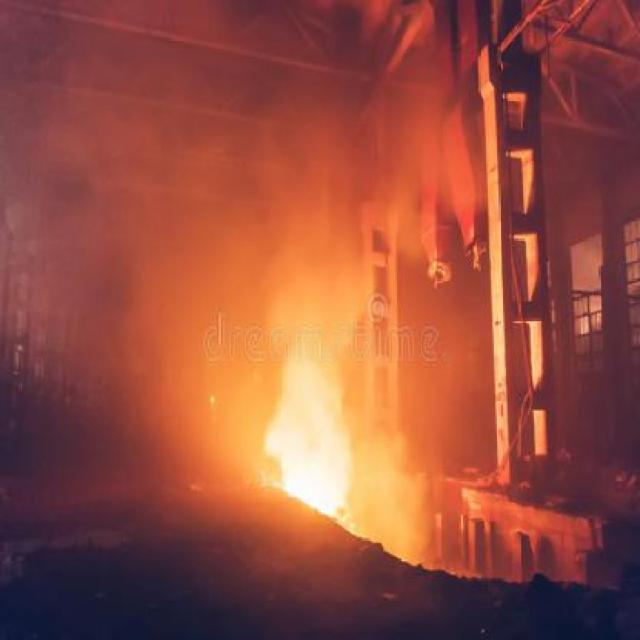Fire: (274, 346, 352, 488), (290, 490, 350, 515), (262, 427, 293, 456)
